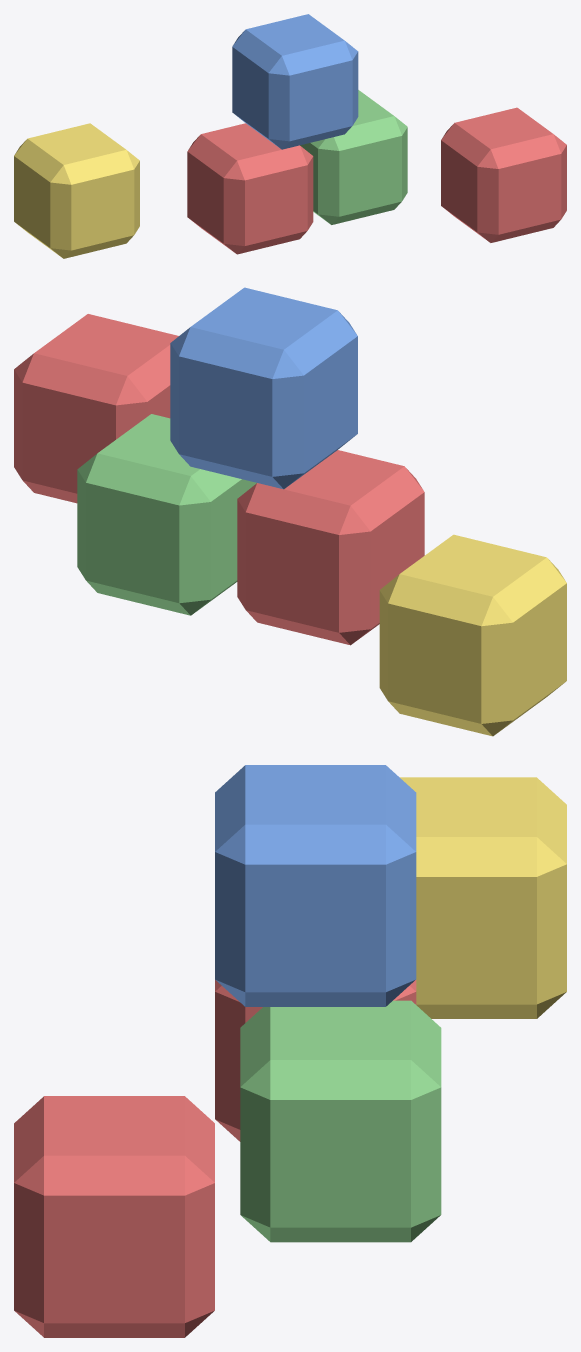
The model's file is toy_blocks.glb.
The picture shows the model from 3 angles, top to bottom: view 1: azimuth 30°, elevation 25°; view 2: azimuth 150°, elevation 25°; view 3: azimuth 270°, elevation 25°; orthographic projection. The views are drawn at different scales.
Visible parts, largest first — view 1: toy_blocks; view 2: toy_blocks; view 3: toy_blocks.
Boxes of the visible parts, bbox=[...] form: toy_blocks: bbox=[14, 14, 566, 258]; toy_blocks: bbox=[14, 287, 566, 736]; toy_blocks: bbox=[14, 765, 566, 1337].
Size of the model in its own units: 0.38 by 0.16 by 0.22.
